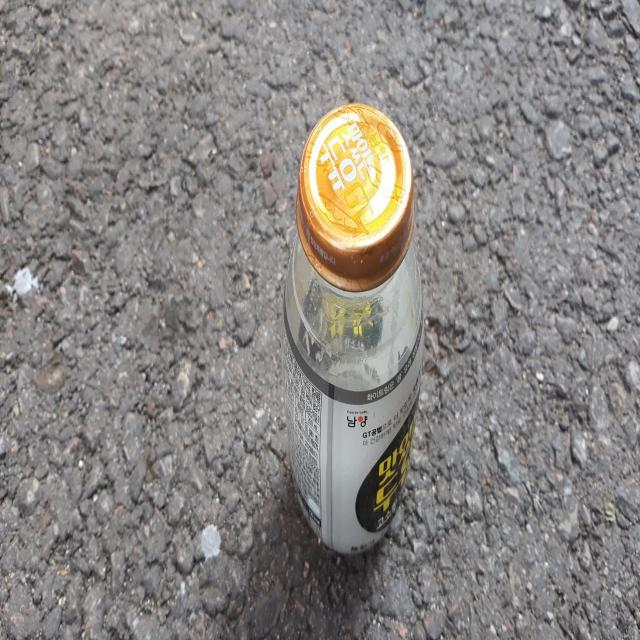glass: (282, 102, 424, 552)
